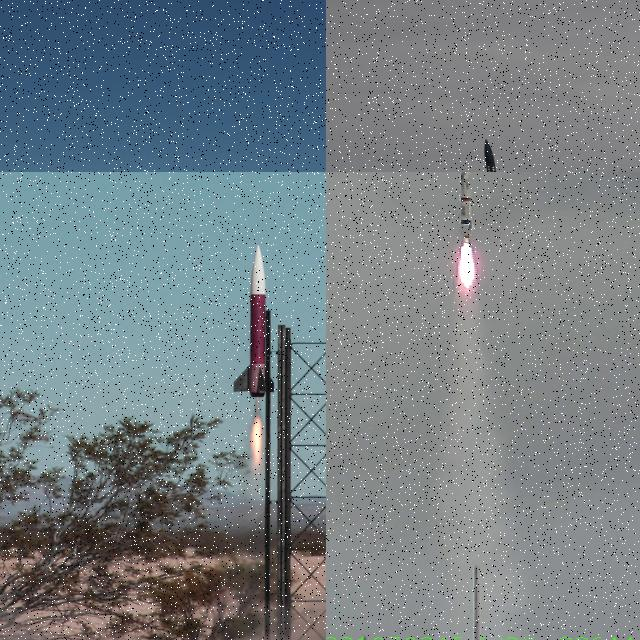Rocket: (232, 242, 276, 399), (459, 172, 475, 243), (483, 138, 516, 172)
